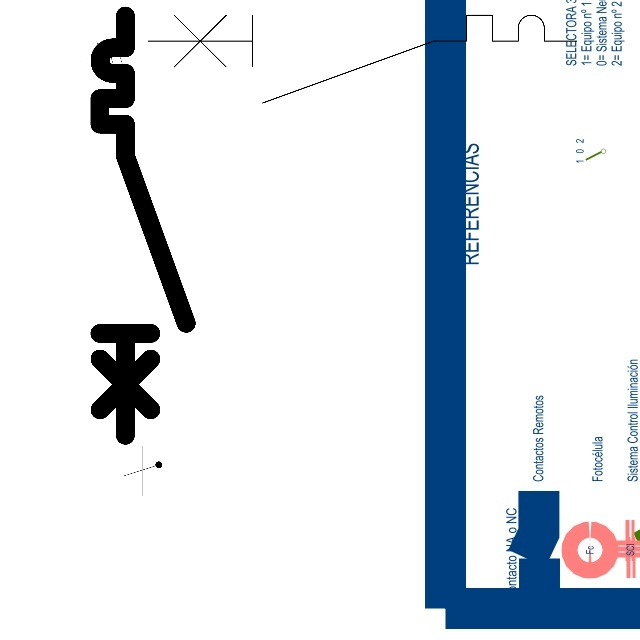interruptor_termomagnetico: (137, 4, 588, 114), (89, 5, 197, 446)
